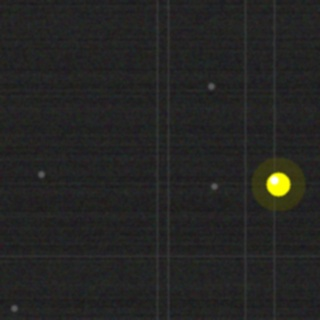yellow_warning: (264, 170, 292, 198)
